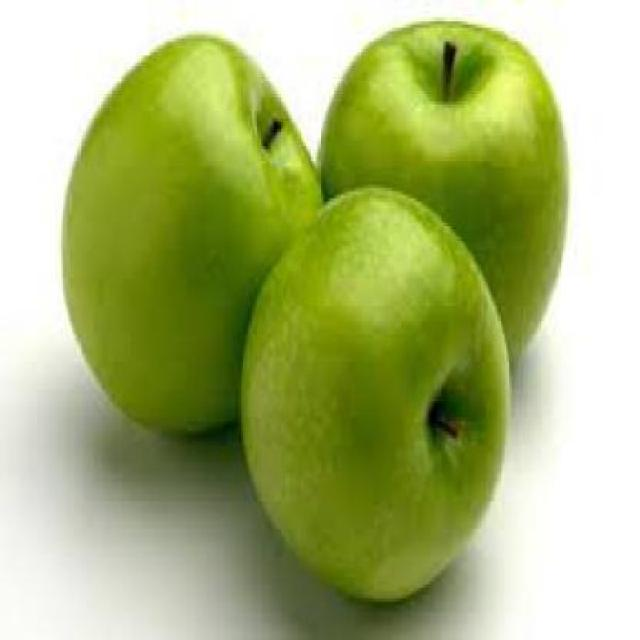BIODEGRADABLE: (238, 184, 510, 608), (58, 34, 320, 446), (314, 17, 566, 400)
